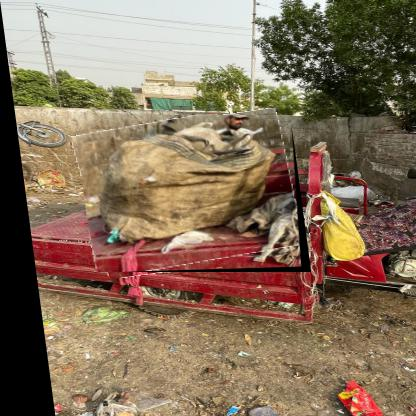Garbage: (71, 116, 306, 274)
